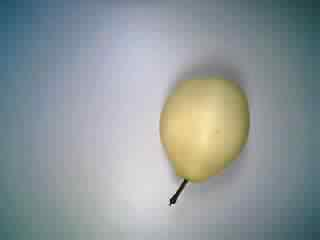pear: (144, 63, 257, 211)
